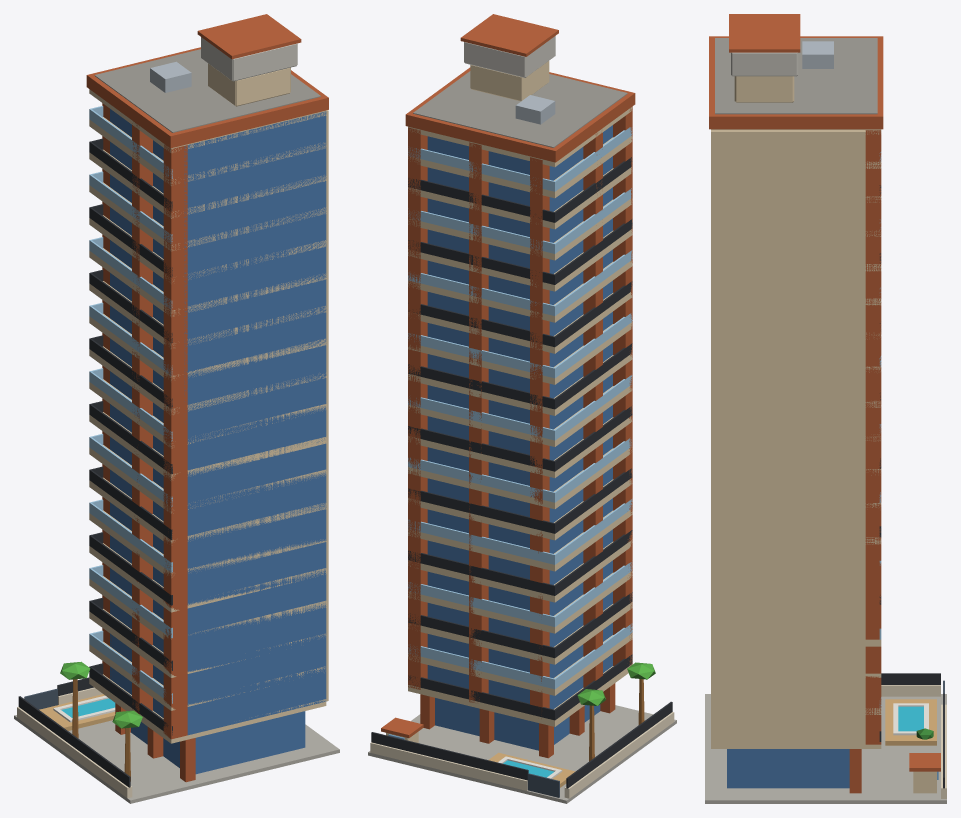
File: torre_alta.glb
3 views of the same model, side by side, from view 1: azimuth 30°, elevation 25°; view 2: azimuth 150°, elevation 25°; view 3: azimuth 270°, elevation 25° (orthographic). The views are drawn at different scales.
Parts seen in each view (by area): view 1: corpo; view 2: corpo; view 3: corpo.
Part boxes in pixels (<box>): corpo: <box>14,14,339,803</box>; corpo: <box>368,14,676,803</box>; corpo: <box>705,14,946,803</box>.
Bounding box in the file's own units: 1.27 × 4.13 × 1.22.
